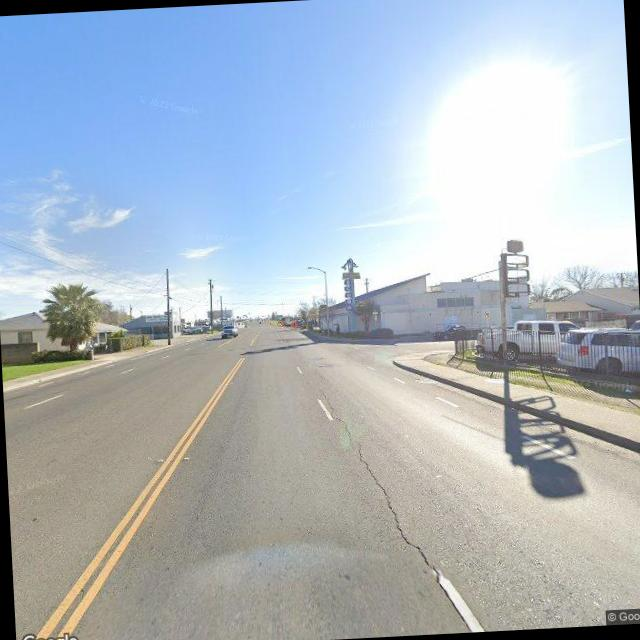pothole: (317, 388, 470, 635)
